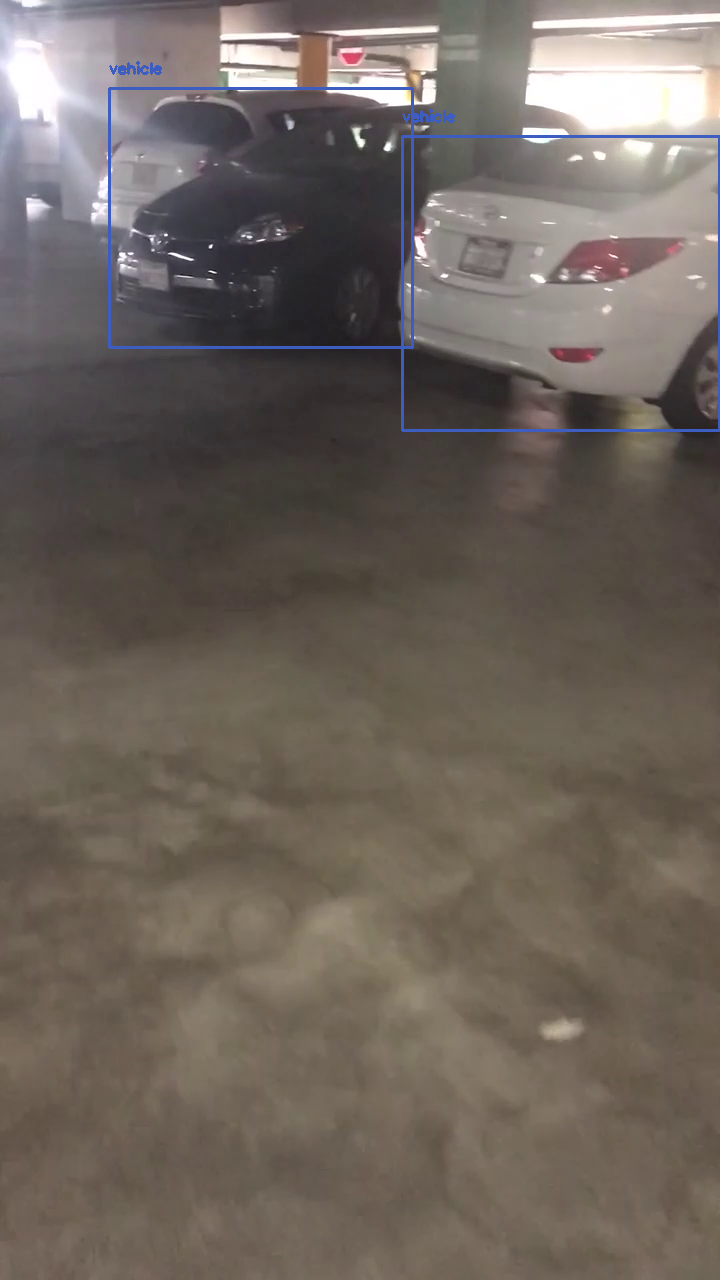vehicle: (402, 136, 719, 430), (109, 88, 412, 347)
